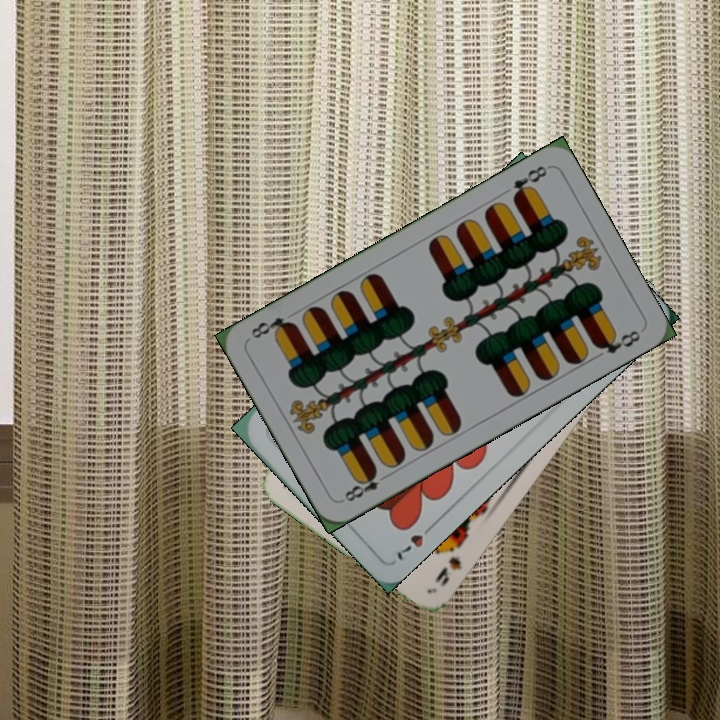E8: (340, 466, 392, 504), (508, 161, 550, 203)
H7: (393, 518, 438, 563)
S9: (431, 535, 467, 589)
